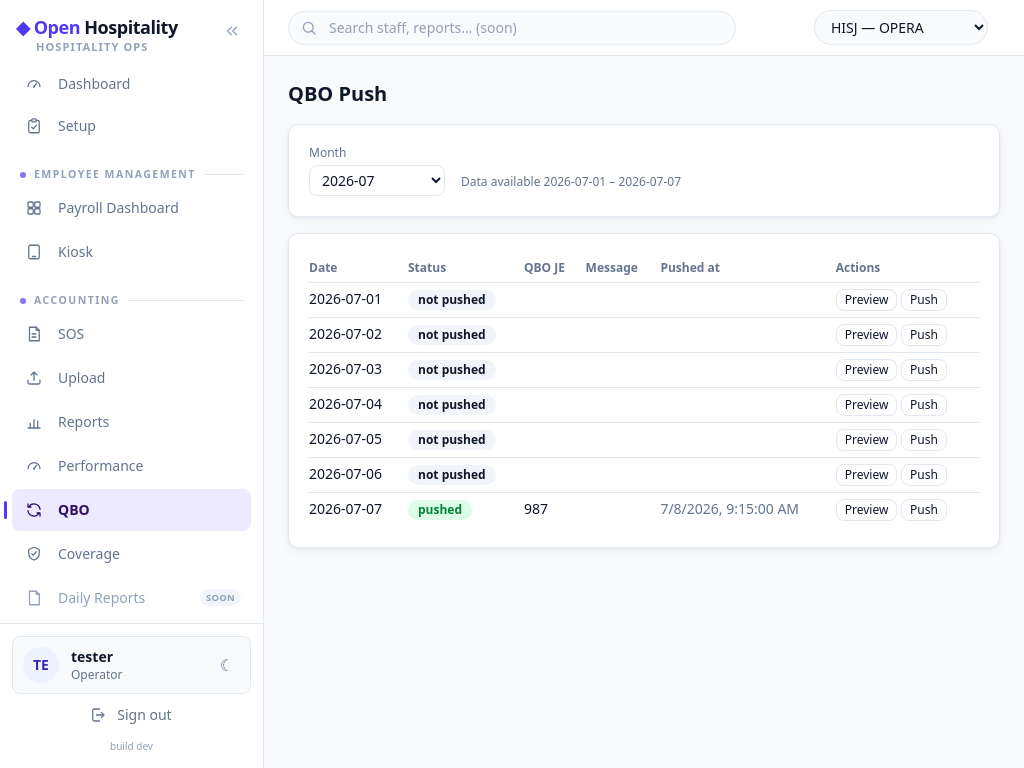
Test: QboPage preview › treats an empty unmapped list as a plain error, not a worklist
Click the button with aria-label "Preview 2026-07-07".
click(867, 510)  # box [836,499,897,521]
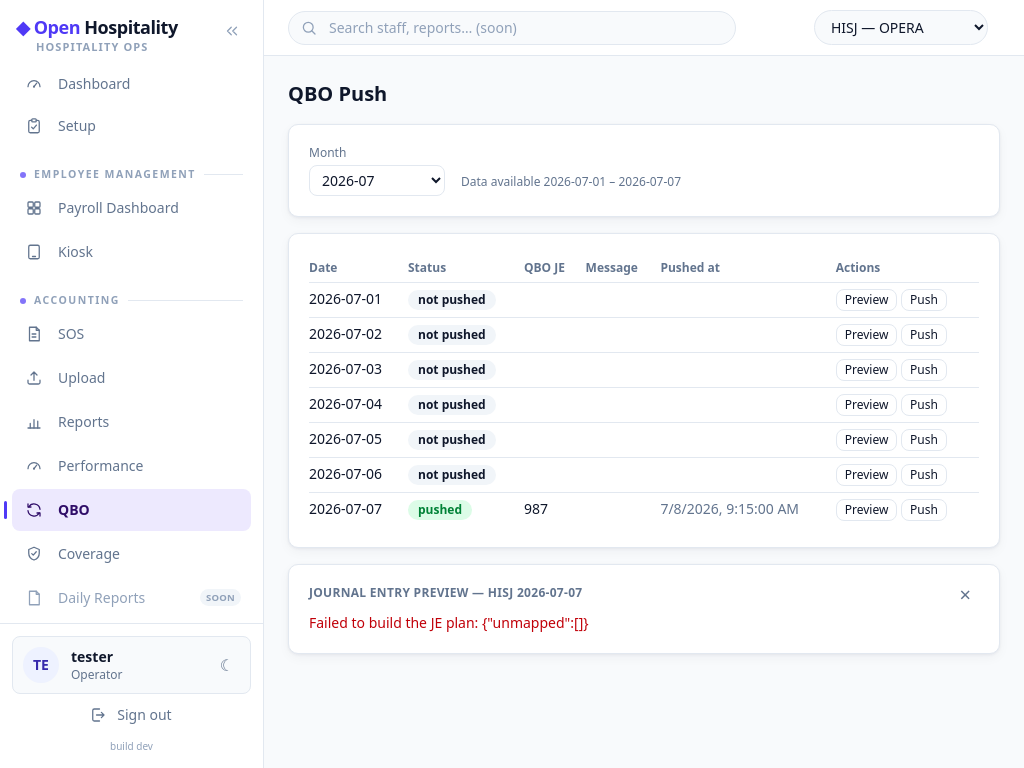
Result: the text "Failed to build the JE plan: {\"unmapped\":[]}" is shown at [309,613,589,632]
